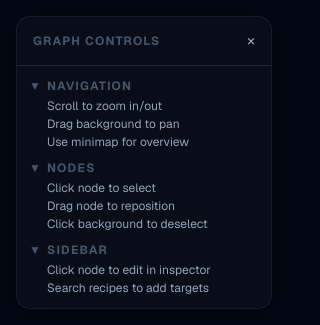
Test: ControlsPanel › collapses and expands sections on click
The image size is (320, 325).
Expected: the list item "Scroll to zoom in/out" is shown, [47,98,162,114]
Click to collapse
Click the button "▼ Navigation": x=144, y=86 [29,78,259,94]
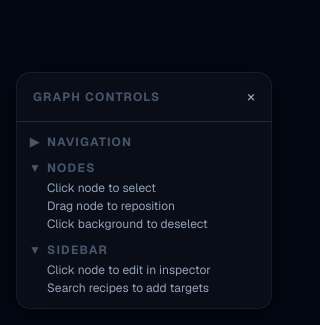
Expected: the button "▶ Navigation" is collapsed
Expected: the list item "Scroll to zoom in/out" is gone
Click to expand again
Click the button "▶ Navigation": x=144, y=142 [29,134,259,150]
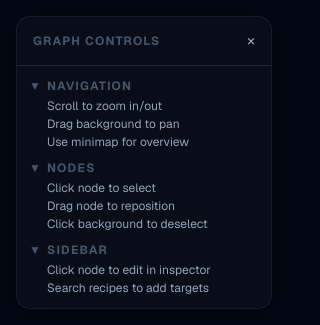
Expected: the button "▼ Navigation" is expanded, [29,78,259,94]
Expected: the list item "Scroll to zoom in/out" is shown, [47,98,162,114]
